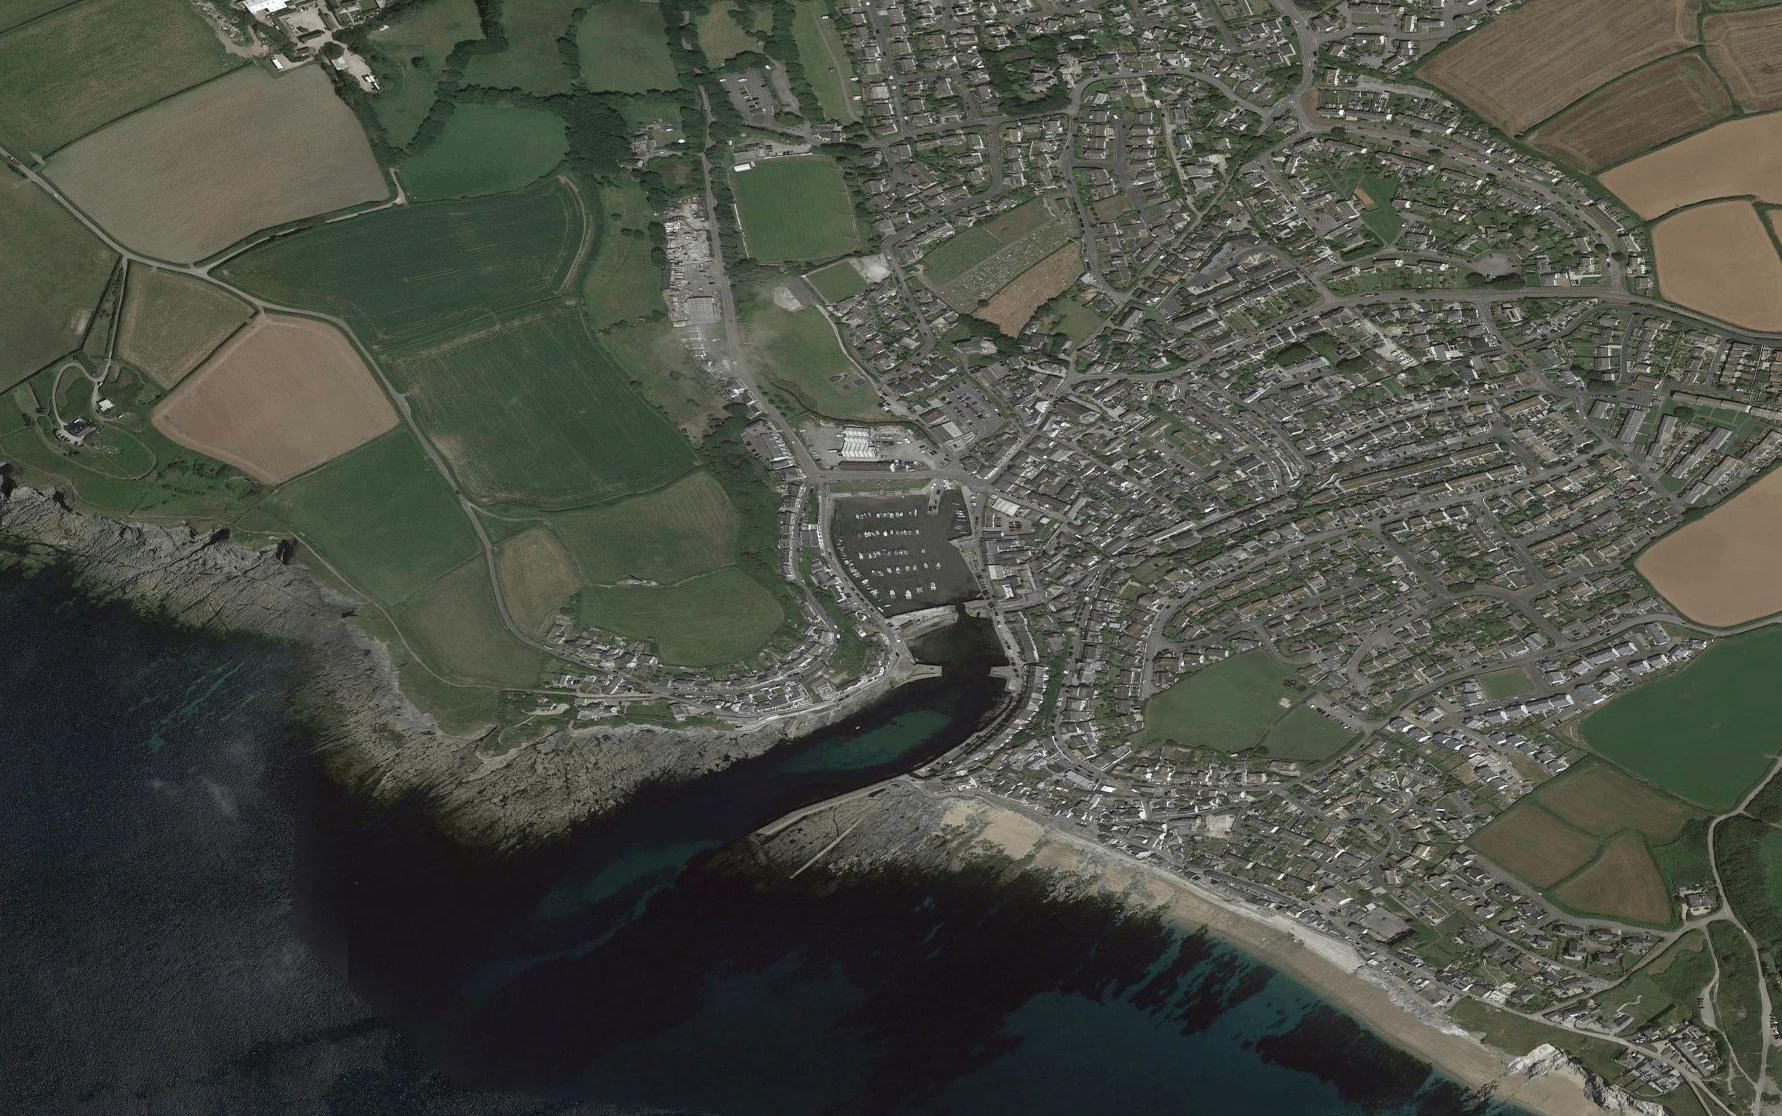harbor: (795, 464, 1016, 678)
